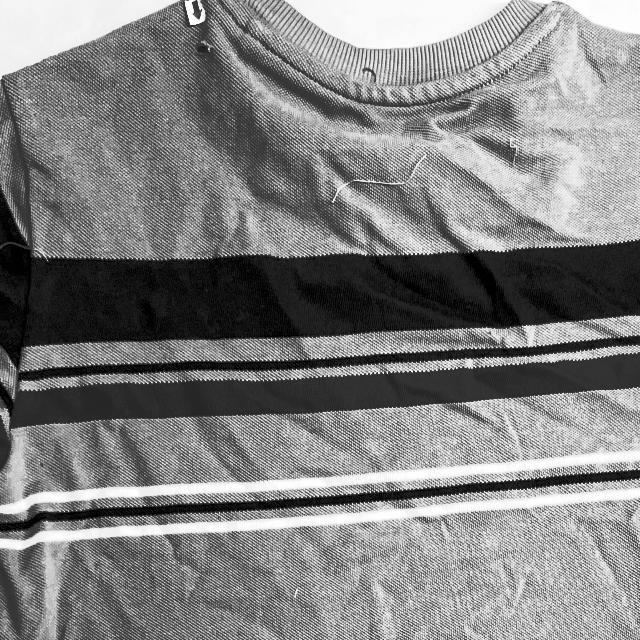Hole: (192, 37, 219, 62)
